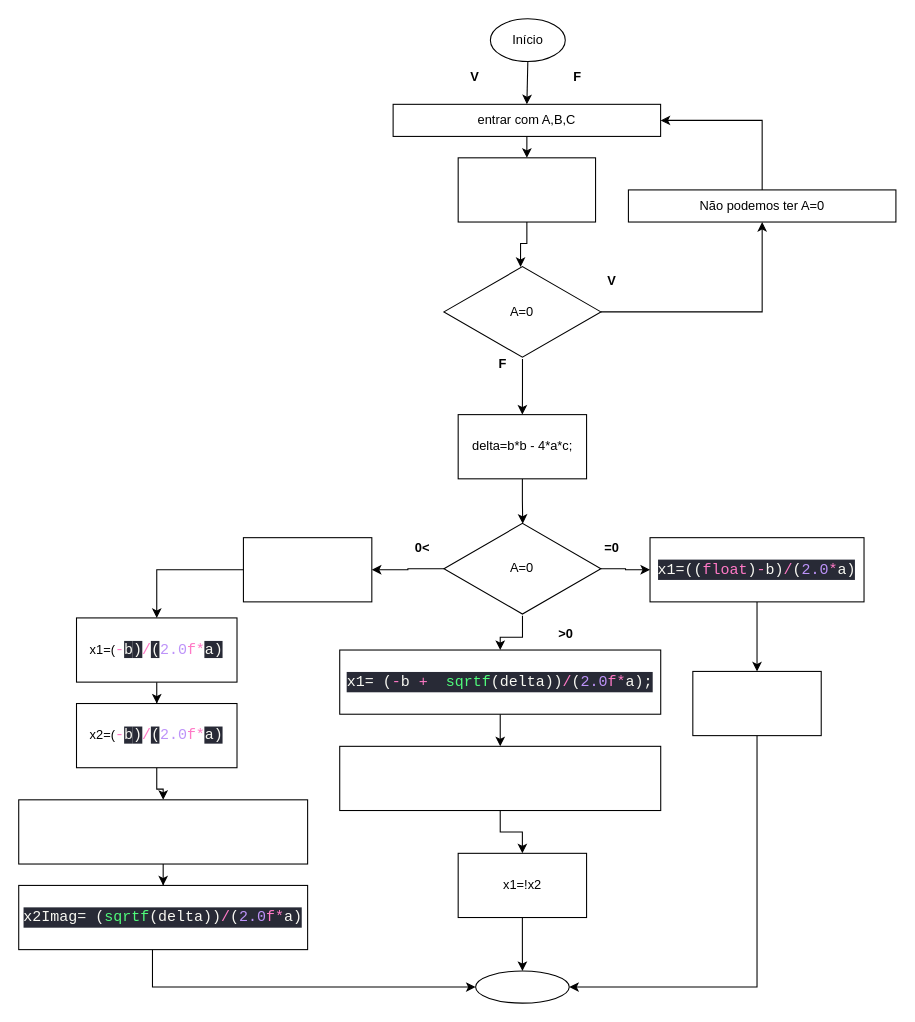
This 915x1022 diagram has some shape labels left out. Here are the shapes that lost their labels. From the top down, the centre of each, then its label:
At [526,189]: "A=PORTA; B=PORTB; C=PTT;".
At [307,569]: "Sem Raízes Reais".
At [756,703]: "x1=x2".
At [500,778]: "x2= ( - b - sqrtf (delta)) / ( 2.0 f* a);".
At [163,831]: "x1Imag= - ( sqrtf (delta)) / ( 2.0 f* a)".
At [522,986]: "FIM".
